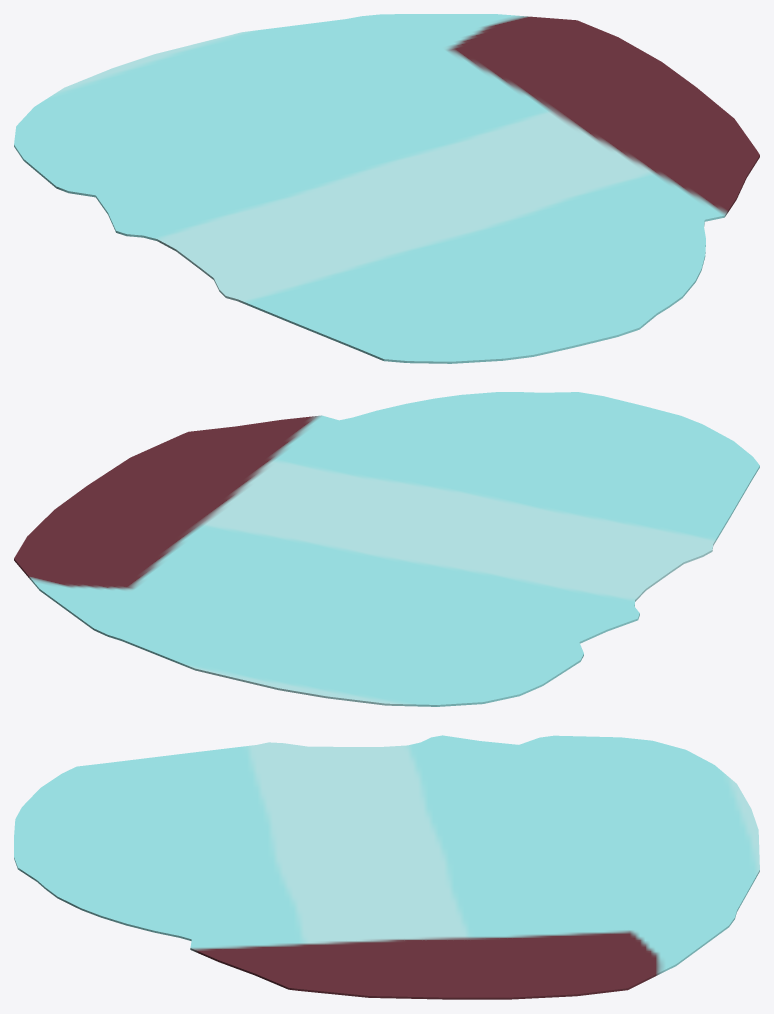
Rendered from Level 174 unroll ghost rider face.fbx.
The picture shows the model from 3 angles, top to bottom: view 1: azimuth 30°, elevation 25°; view 2: azimuth 150°, elevation 25°; view 3: azimuth 270°, elevation 25°; orthographic projection. The views are drawn at different scales.
Visible parts, largest first — view 1: Blend; view 2: Blend; view 3: Blend.
Part boxes in pixels (left/top/right/bottom): Blend: left=14, top=14, right=759, bottom=363; Blend: left=14, top=392, right=759, bottom=706; Blend: left=14, top=735, right=759, bottom=999.
Size of what is drawn, in the model's own units: 293 by 1 by 352.
